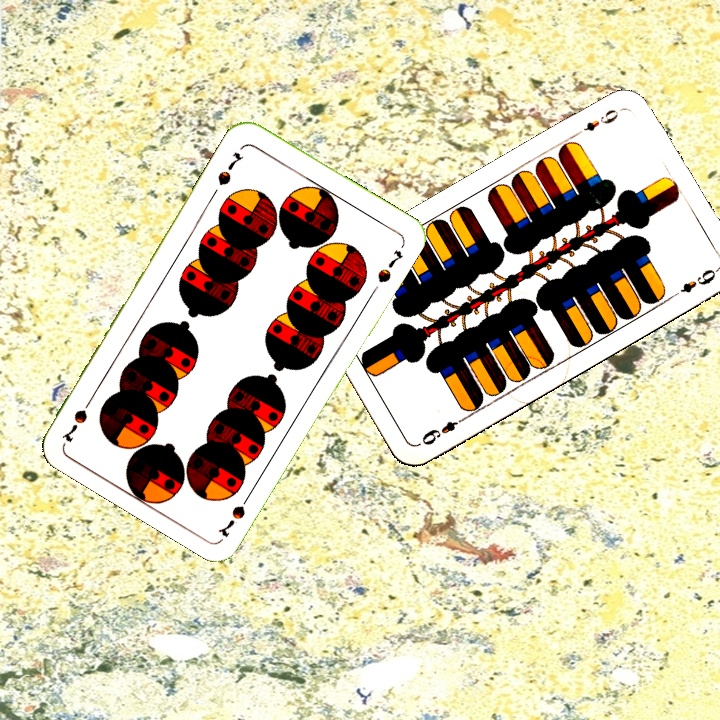E9: (417, 412, 469, 448), (579, 104, 625, 134)
S7: (214, 487, 255, 540), (213, 148, 245, 189)
